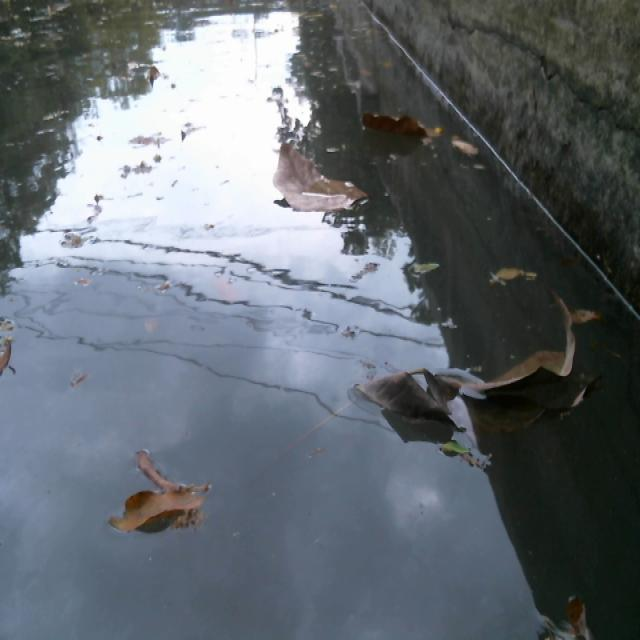Big-leaf: (339, 289, 602, 447), (263, 126, 378, 233), (112, 435, 211, 539), (363, 107, 435, 144)
Small-leaf: (535, 582, 620, 640), (471, 251, 542, 290), (0, 318, 25, 394), (398, 245, 451, 278), (447, 130, 486, 163)
